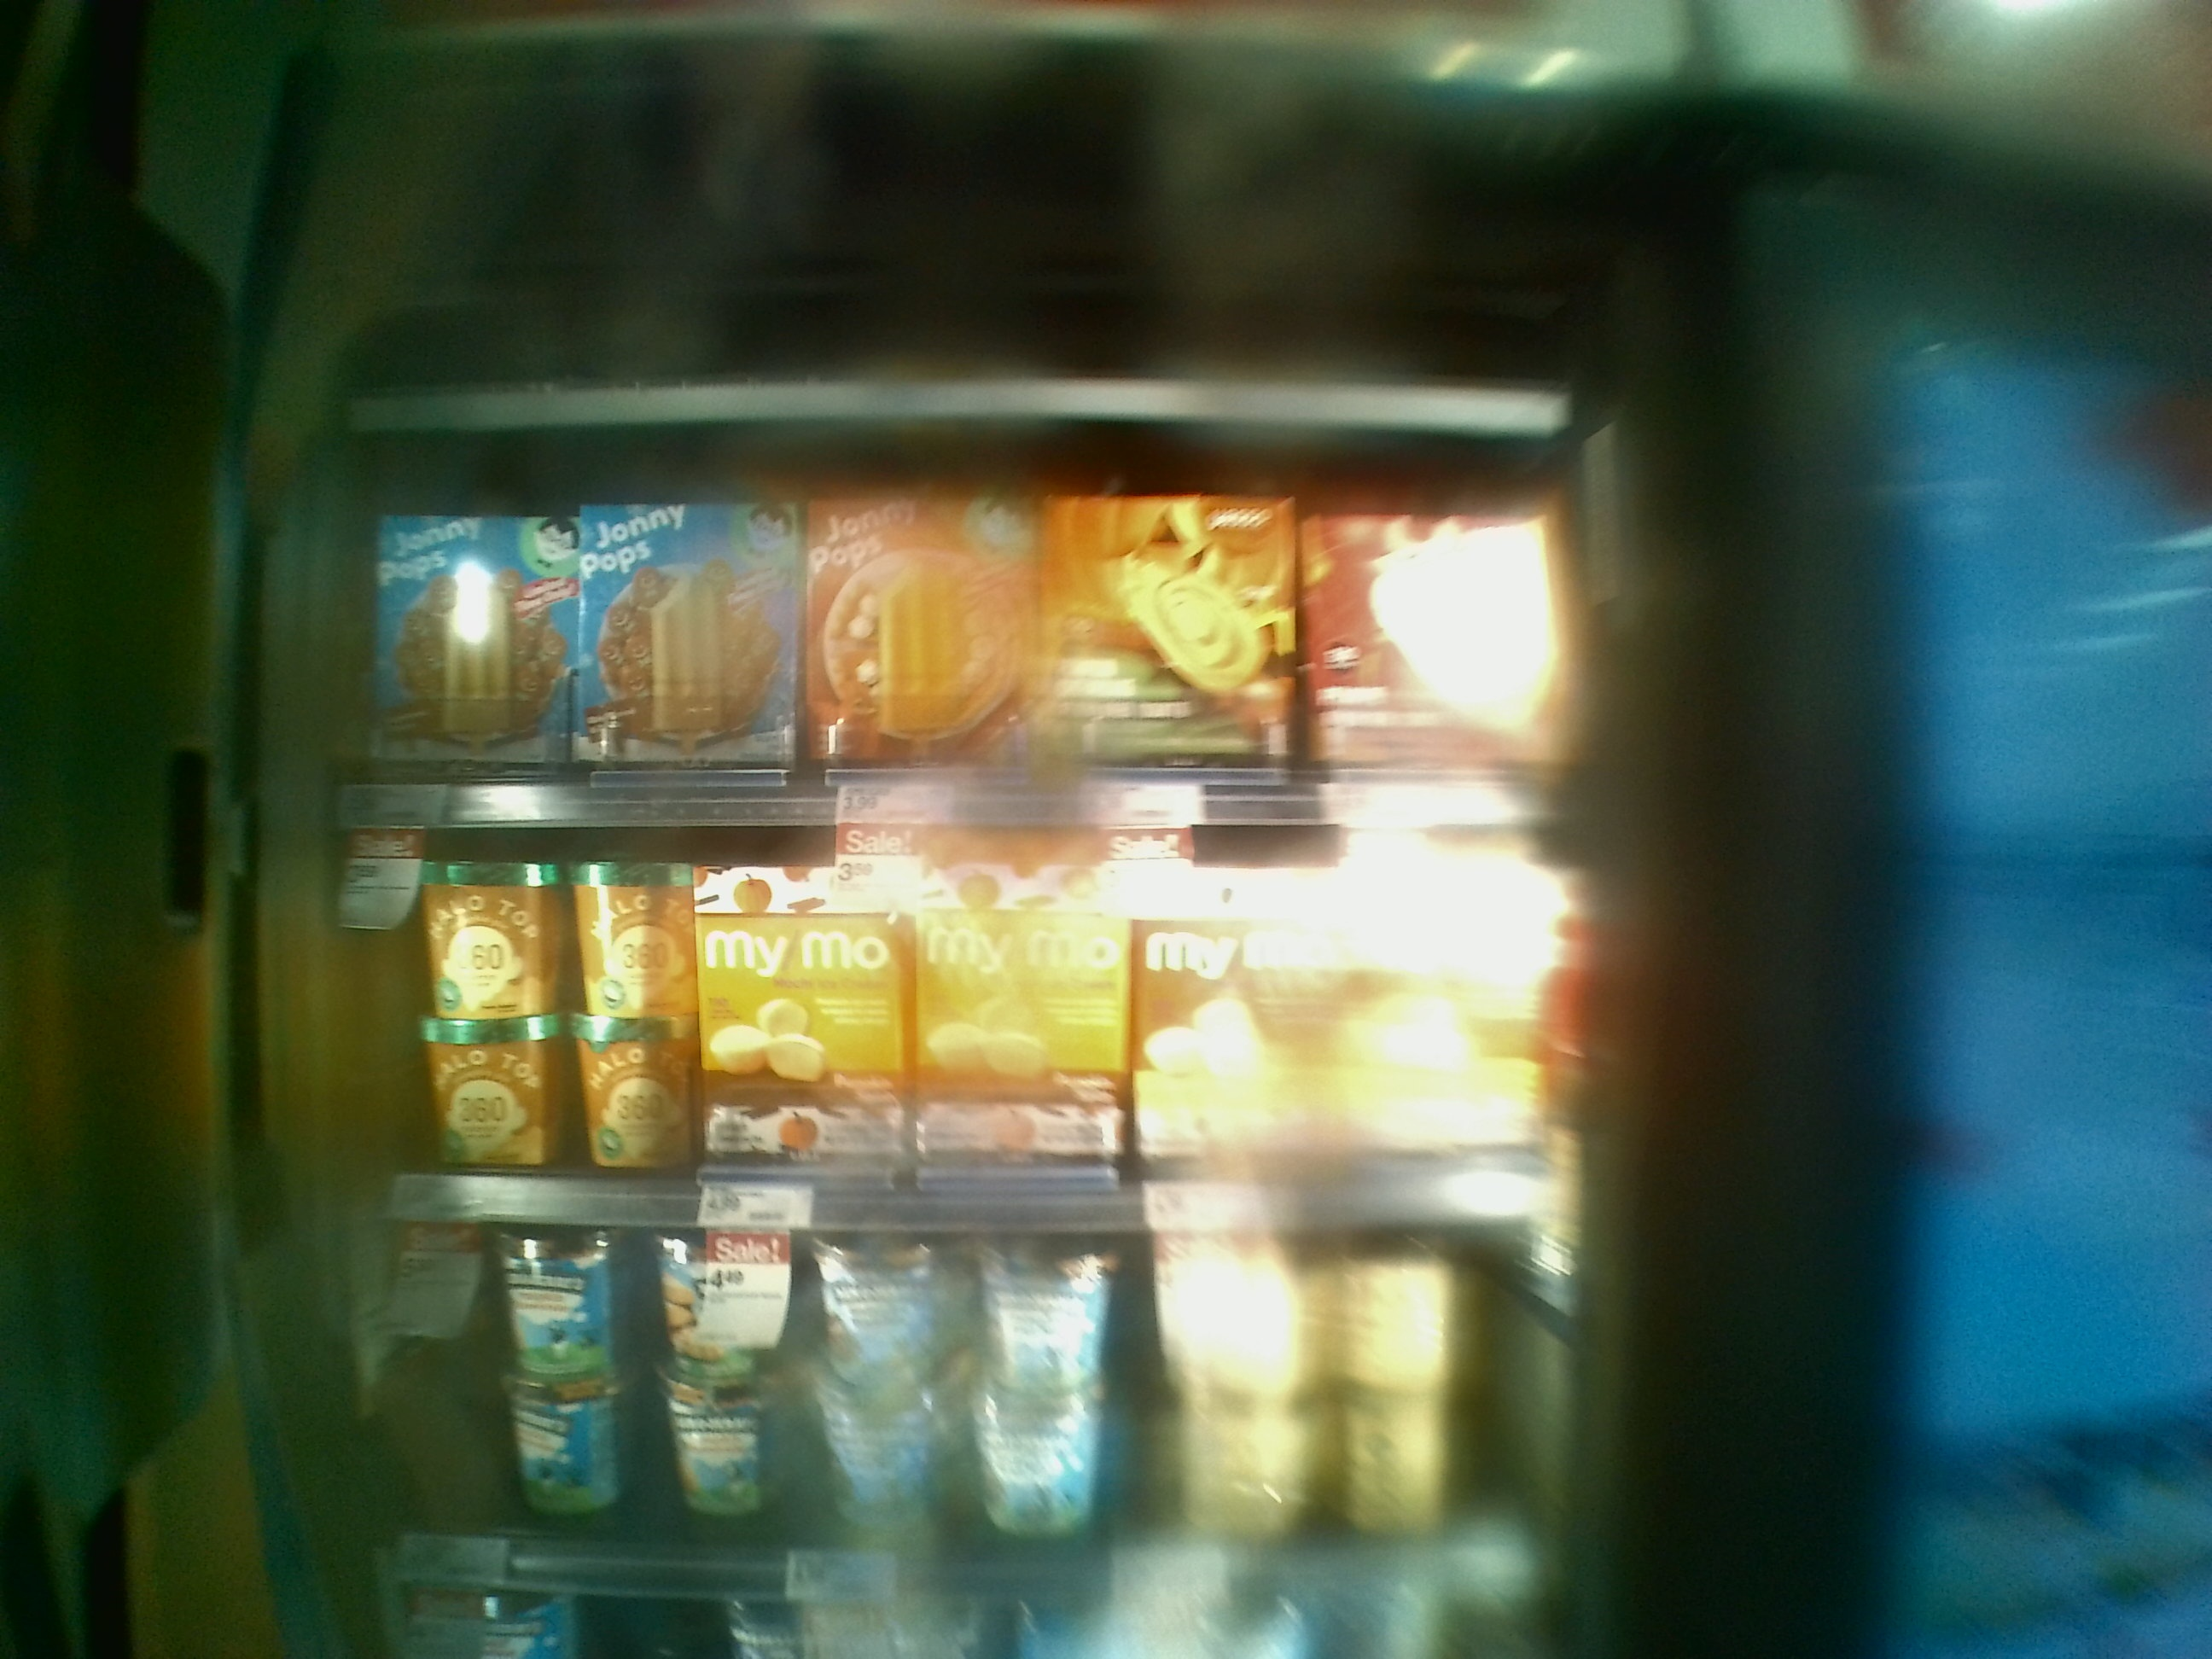shelf: (298, 812, 1588, 1246), (319, 437, 1594, 828), (312, 1213, 1554, 1612)
